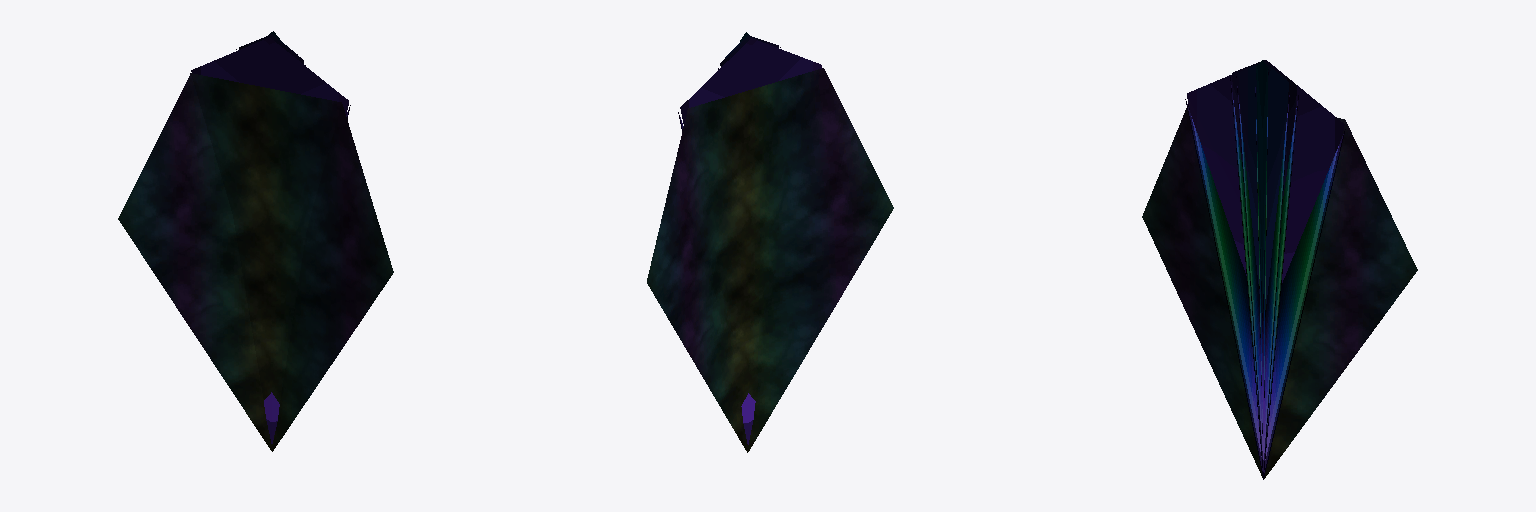
The picture shows the model from 3 angles: view 1: azimuth 90°, elevation 25°; view 2: azimuth 150°, elevation 25°; view 3: azimuth 270°, elevation 25°; orthographic projection.
Visible parts, largest first — view 1: polygon8, polygon2; view 2: polygon8, polygon2; view 3: polygon8, polygon2, polygon3, polygon4, polygon5, polygon1, polygon6, polygon7, polygon0.
Boxes of the visible parts, <box> form: polygon8: <box>118,73,393,451</box>; polygon2: <box>191,37,348,443</box>; polygon8: <box>647,68,893,452</box>; polygon2: <box>680,38,821,444</box>; polygon8: <box>1142,104,1417,478</box>; polygon2: <box>1187,60,1344,282</box>; polygon3: <box>1185,99,1345,476</box>; polygon4: <box>1238,61,1288,303</box>; polygon5: <box>1236,76,1290,466</box>; polygon1: <box>1230,77,1299,479</box>; polygon6: <box>1256,60,1268,312</box>; polygon7: <box>1255,72,1268,477</box>; polygon0: <box>1232,60,1296,195</box>.
Bounding box in the file's own units: 208 × 731 × 434.
3 materials, 2 textured.